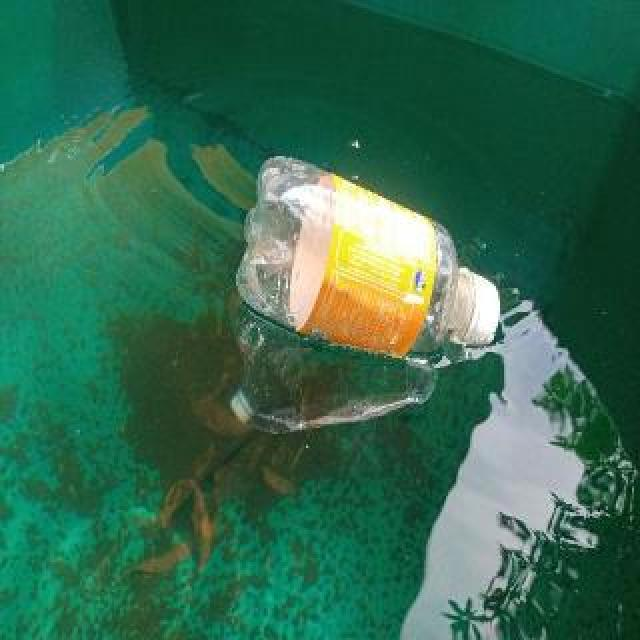Bottle: (229, 149, 512, 371)
